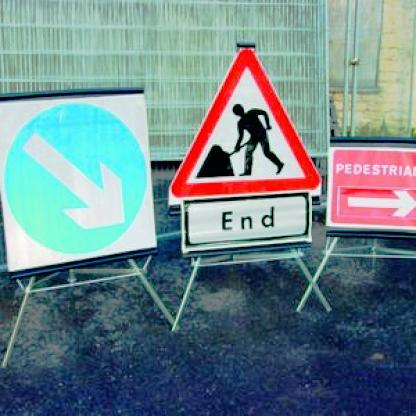Keep right: (2, 102, 156, 260)
